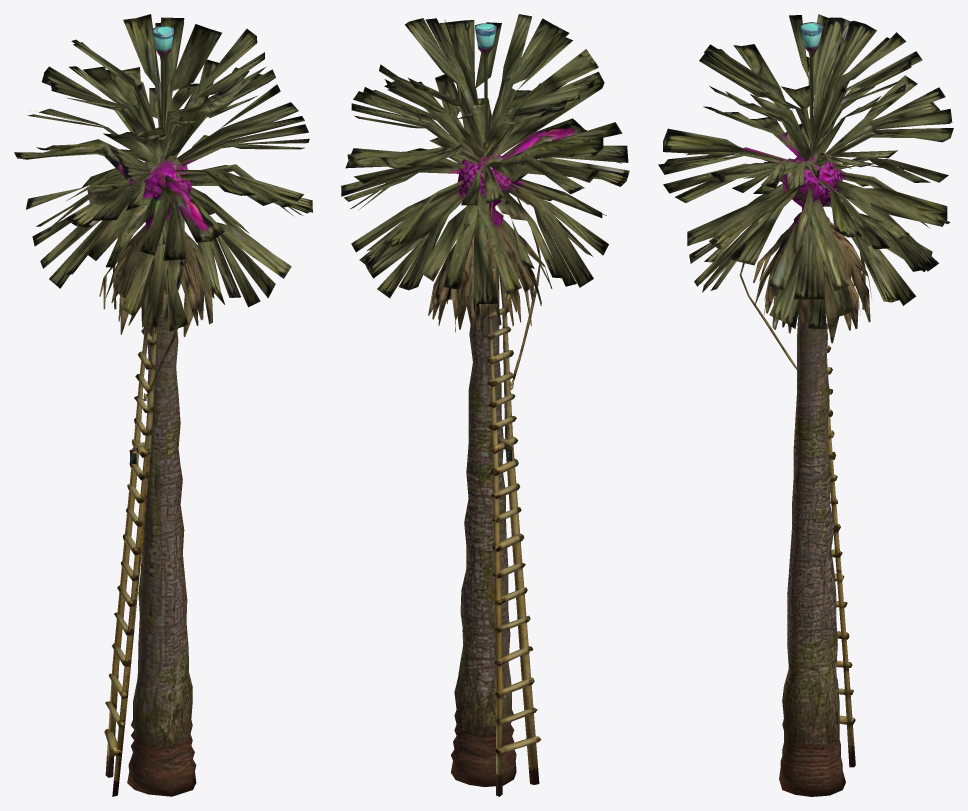
File: sugar_palm.glb
The picture shows the model from 3 angles, left to right: view 1: azimuth 30°, elevation 25°; view 2: azimuth 150°, elevation 25°; view 3: azimuth 270°, elevation 25°; orthographic projection.
Visible parts, largest first — view 1: Body; view 2: Body; view 3: Body.
Part boxes in pixels (x1,y1,x2,y2): Body: [14, 14, 312, 796]; Body: [341, 14, 629, 796]; Body: [658, 14, 953, 796].
Bounding box in the file's own units: 3.46 × 10 × 3.54.
1 material, 1 textured.
